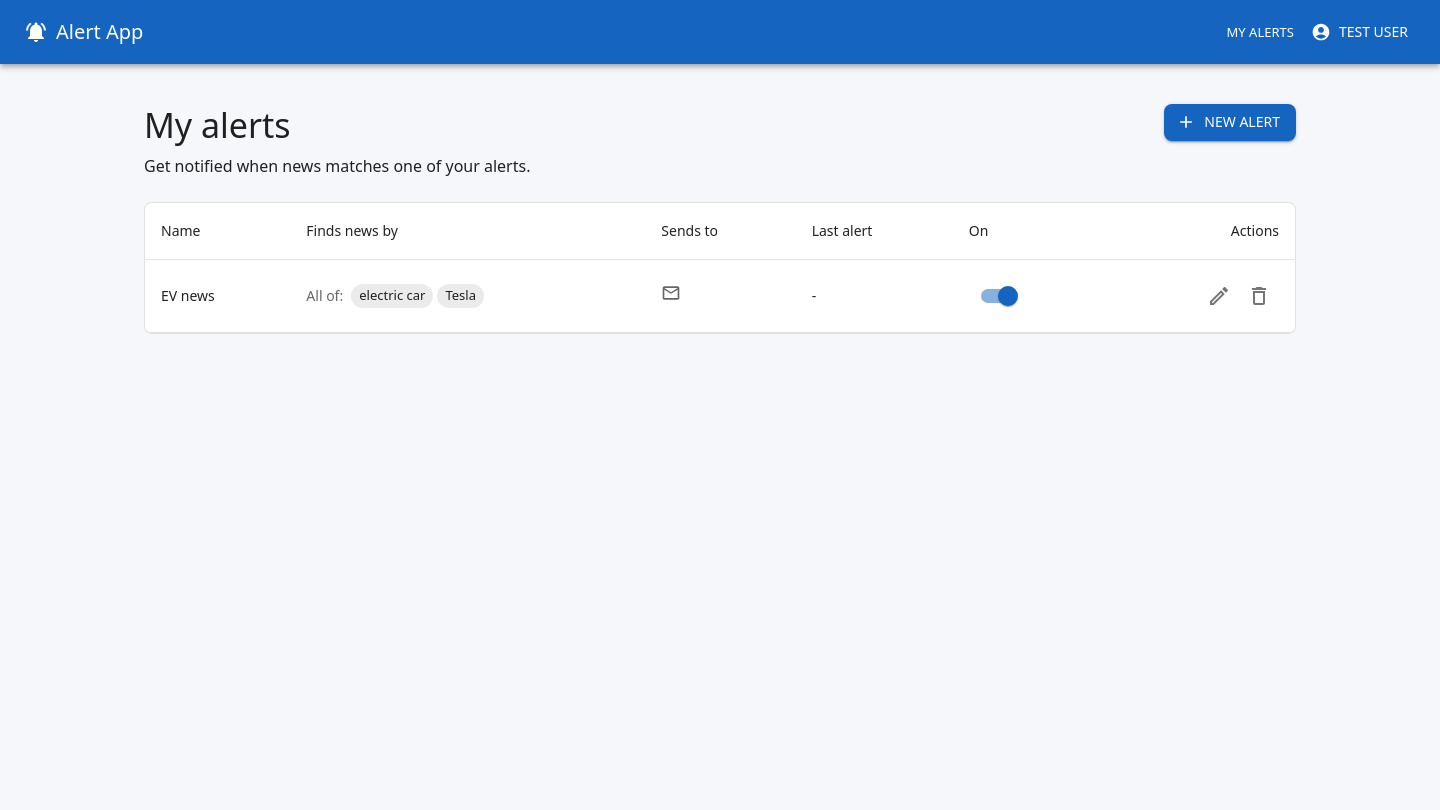
AlertRulesPage › creates a category rule with a category loaded from the server
Click the button "New alert": (1230, 122) [1164,104,1296,140]
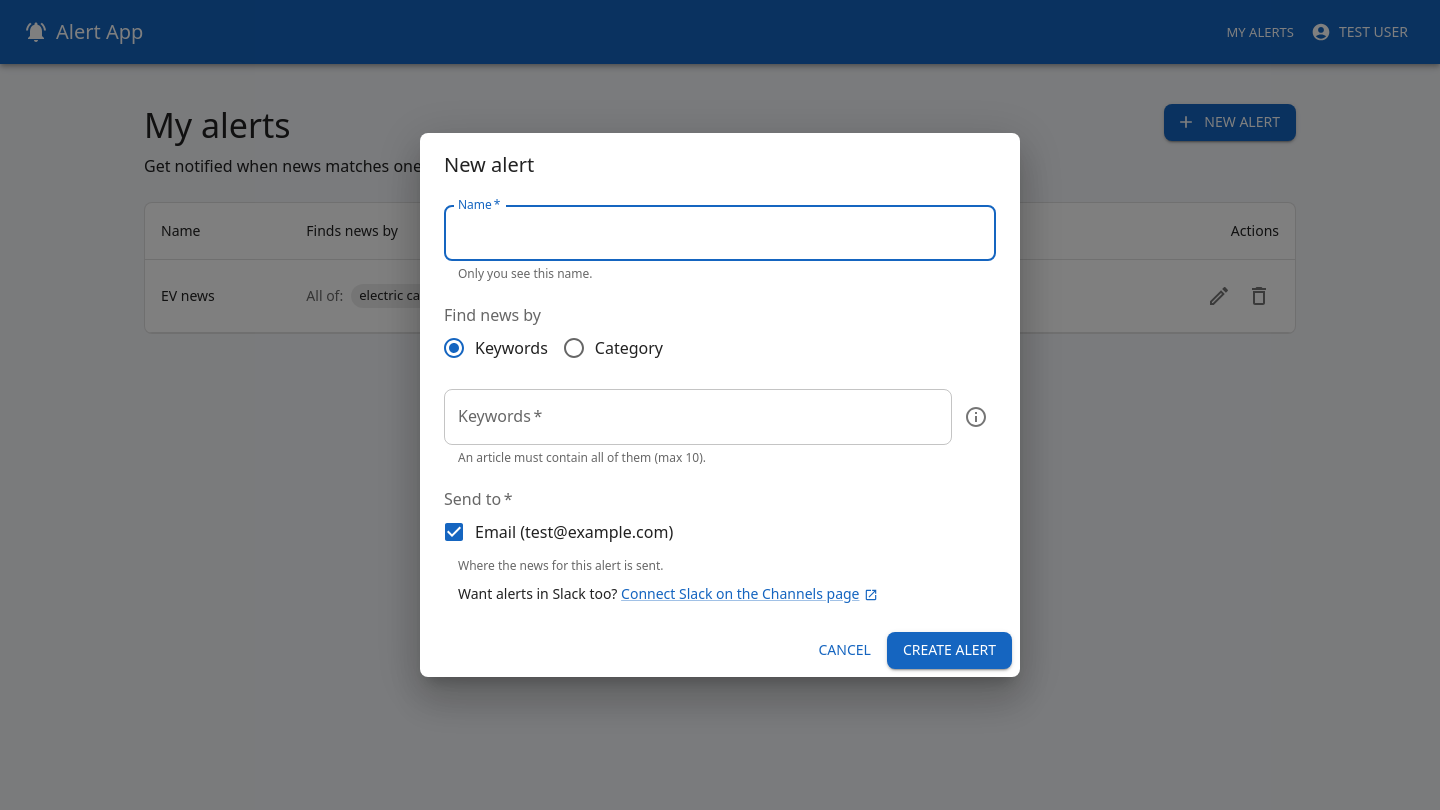
In the field labelled "Name *": (720, 233) [444,205,996,261], type "Health"
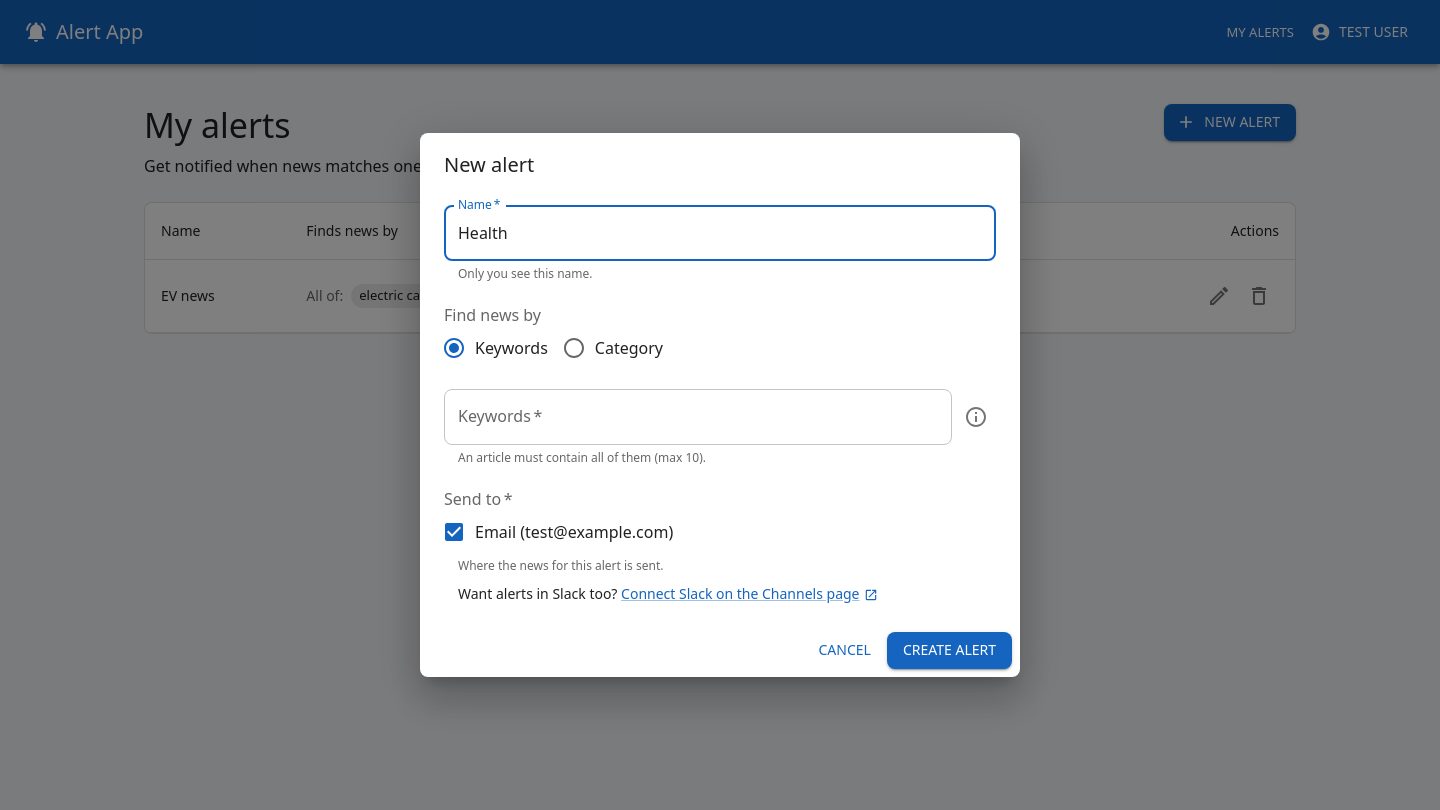
Click the radio button labelled "Category": (612, 348) [562,336,663,360]
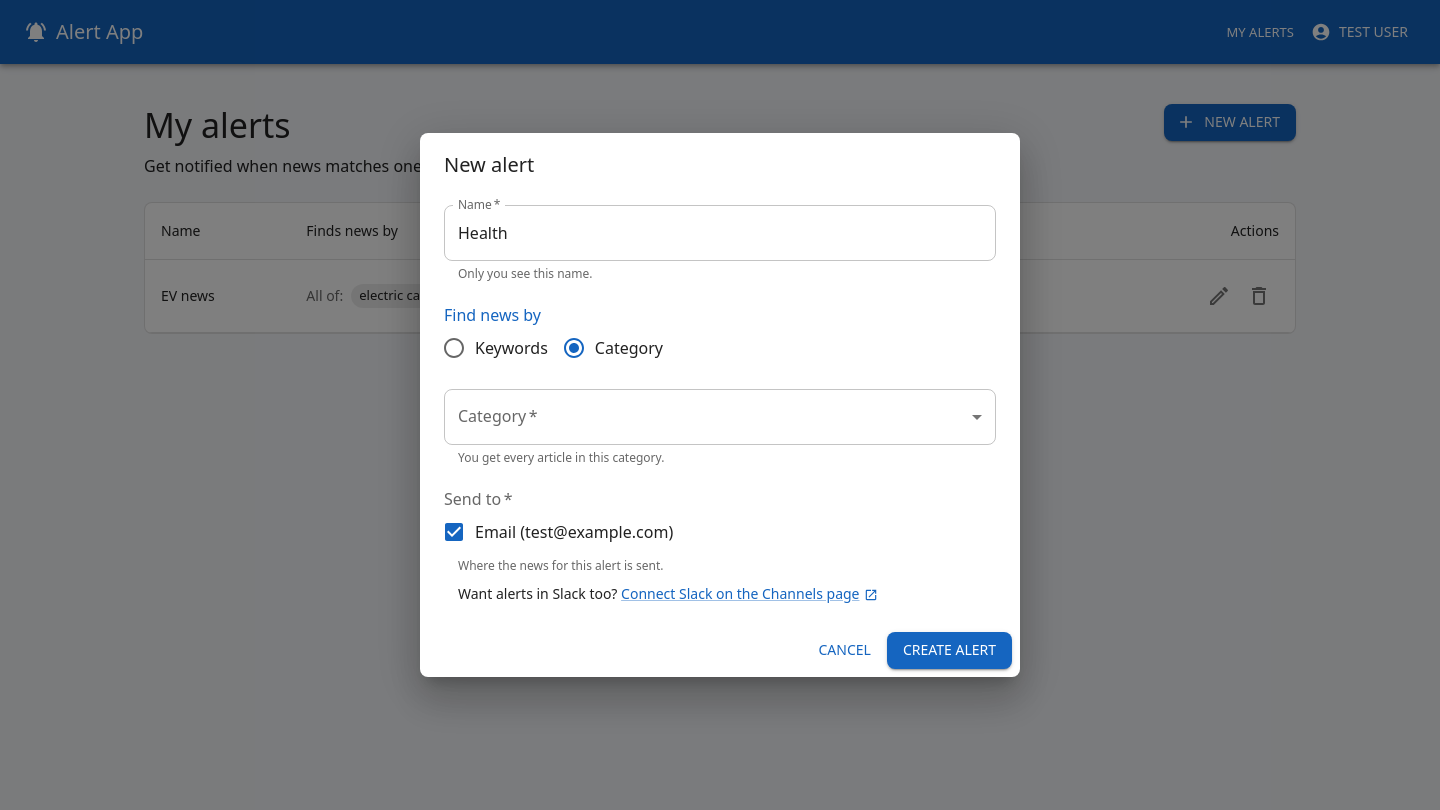
Click the dropdown named "category": (720, 417) [444,389,996,445]
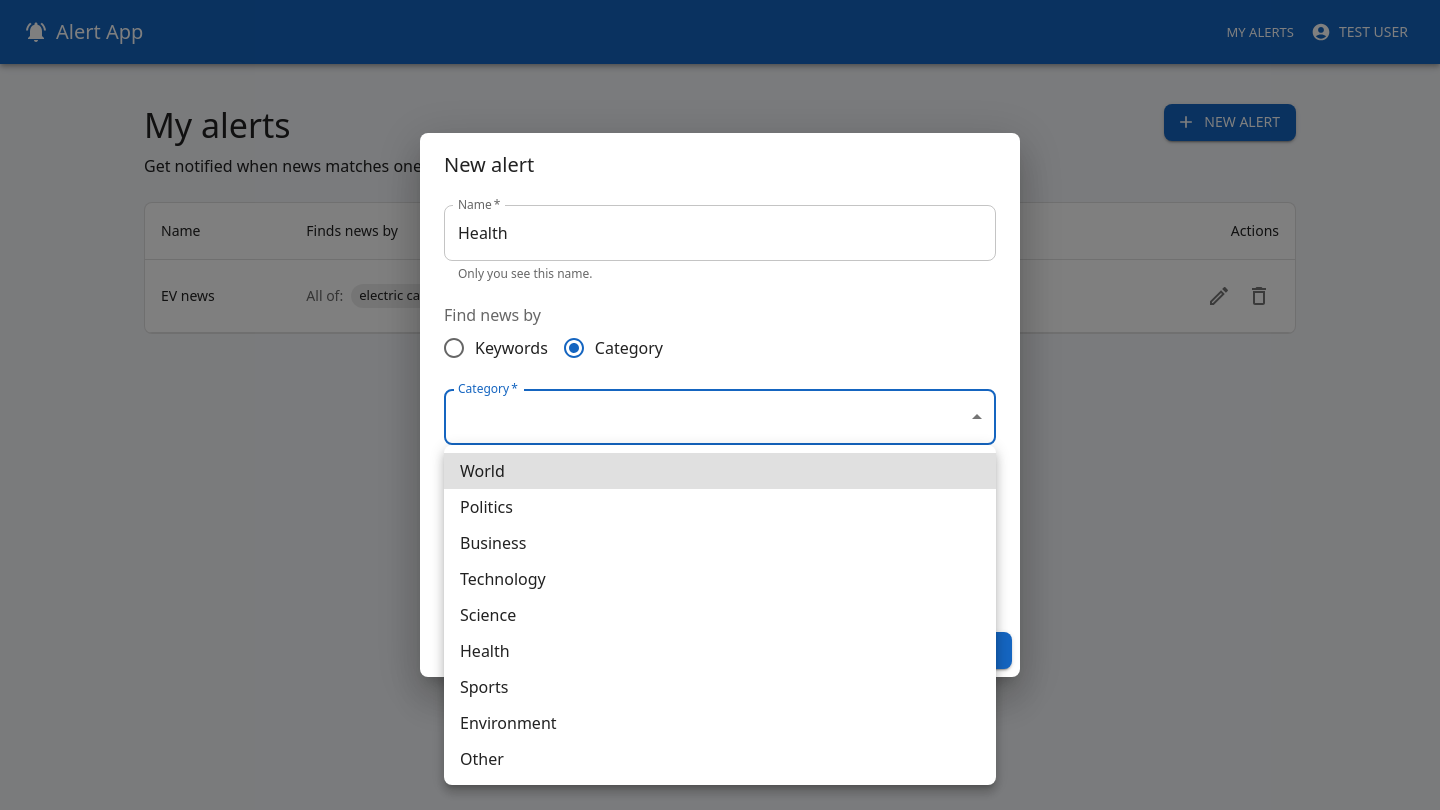
Click the option "Health": (485, 651) [460,640,510,662]
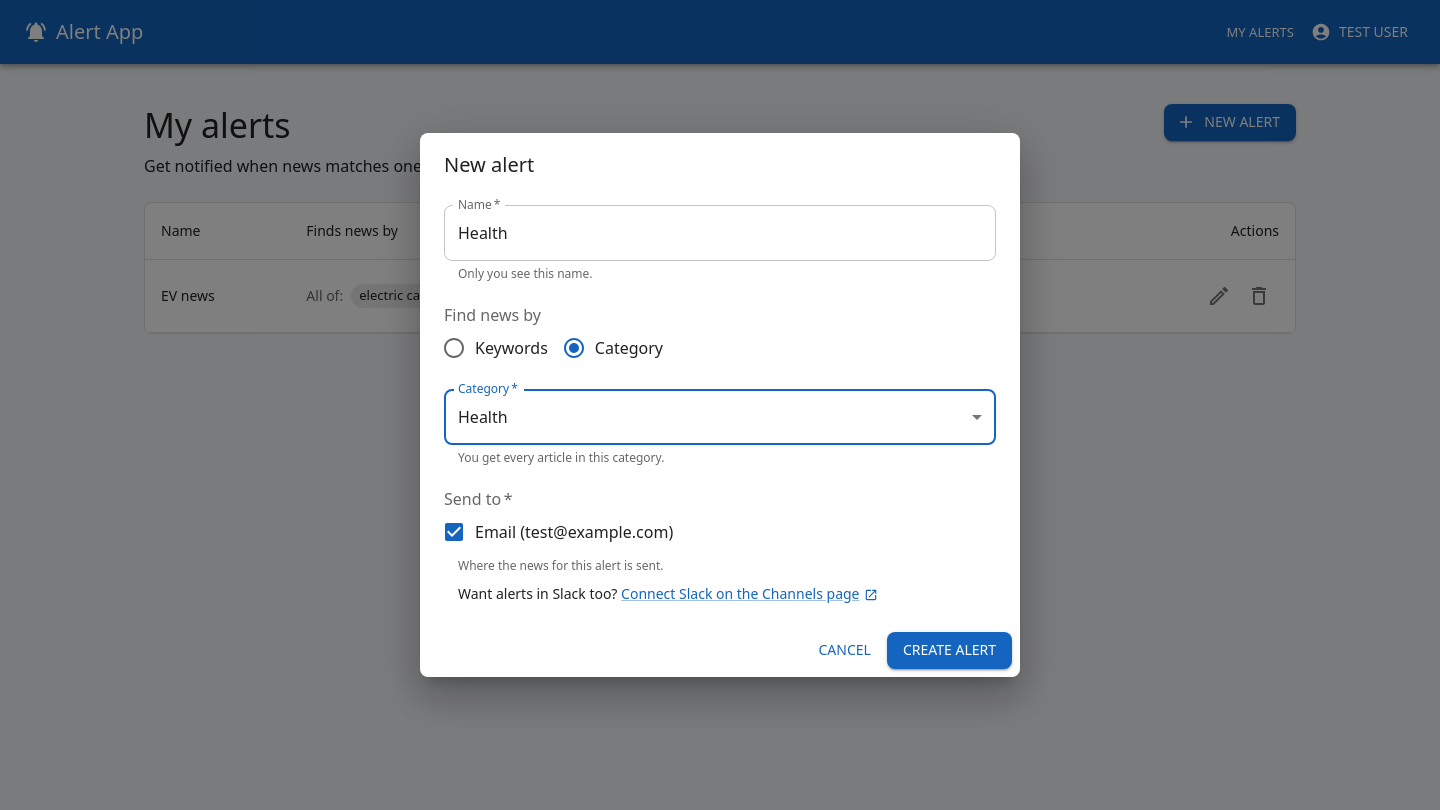
Click the button "Create alert": (949, 650) [887,632,1012,669]
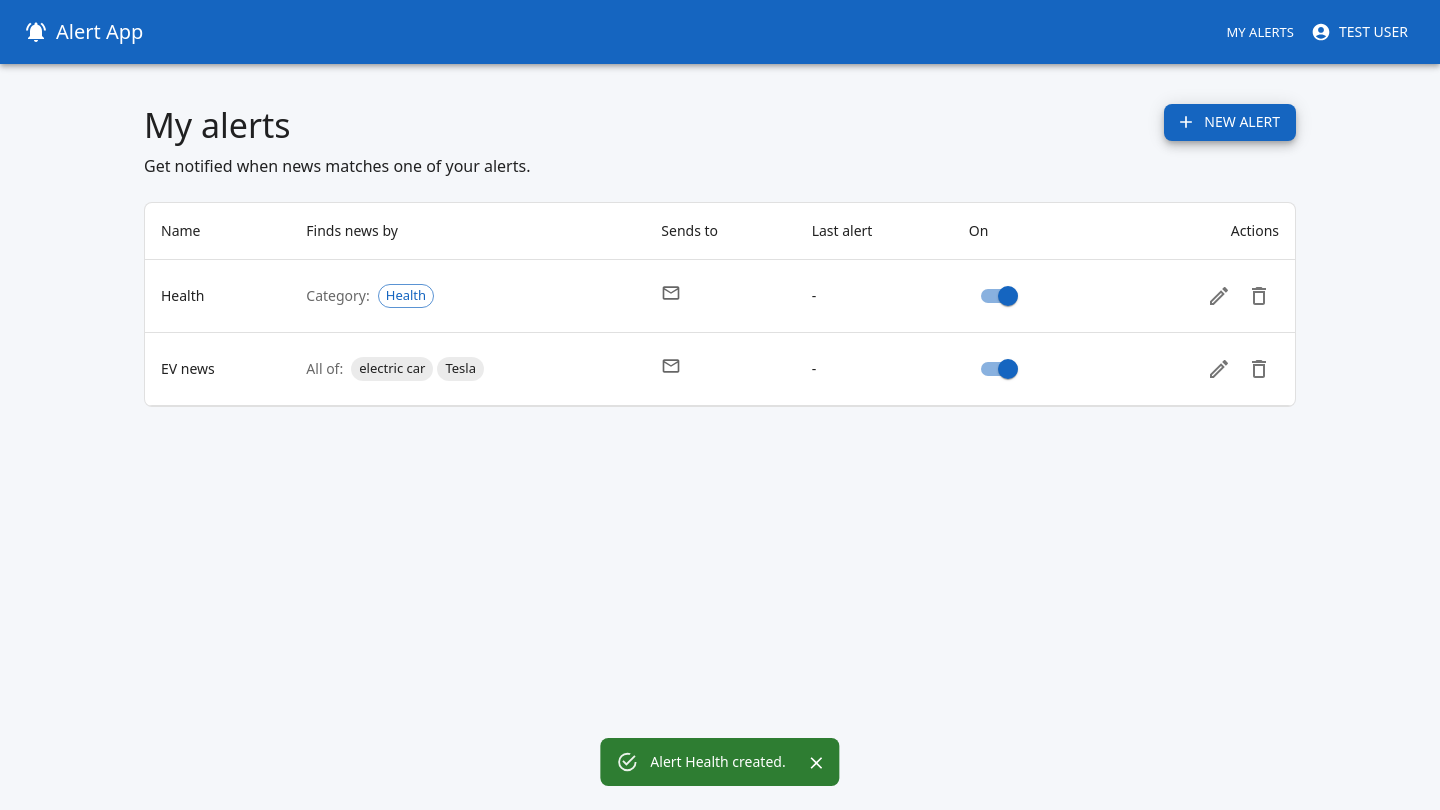
Expected: the text "Alert Health created." is shown, [650,752,786,771]
